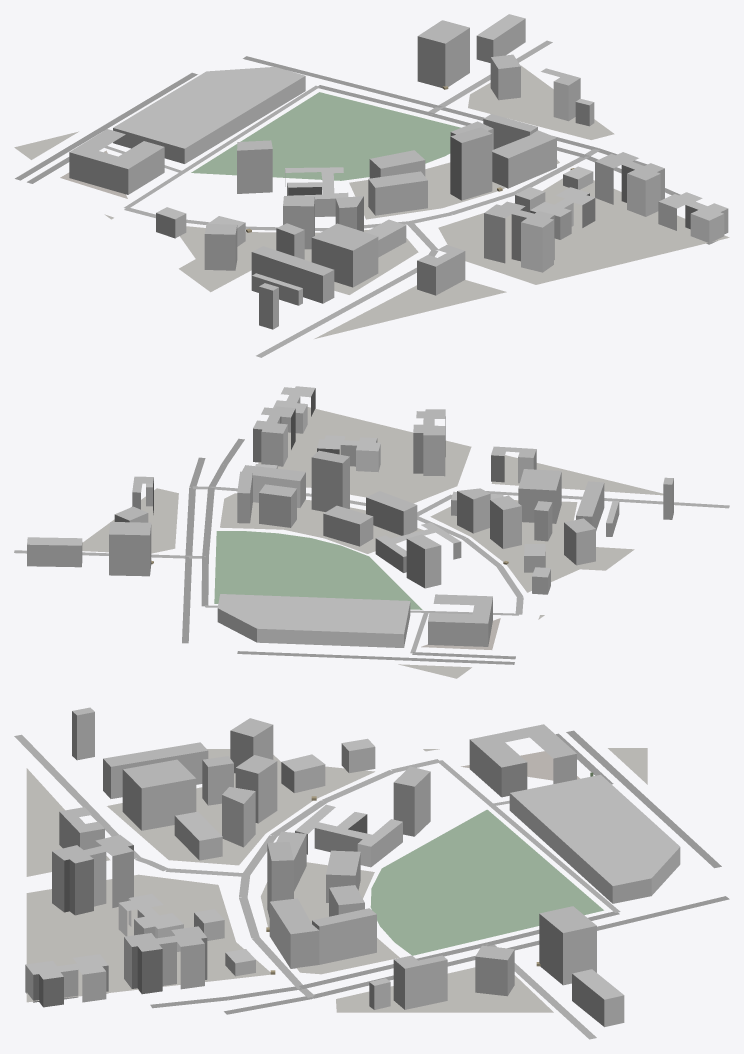
The picture shows the model from 3 angles, top to bottom: view 1: azimuth 30°, elevation 25°; view 2: azimuth 150°, elevation 25°; view 3: azimuth 270°, elevation 25°; orthographic projection. The views are drawn at different scales.
Bounding box in the file's own units: 585 × 61.37 × 576.
